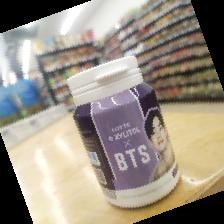Xylitol_BTS: (64, 55, 180, 208)
